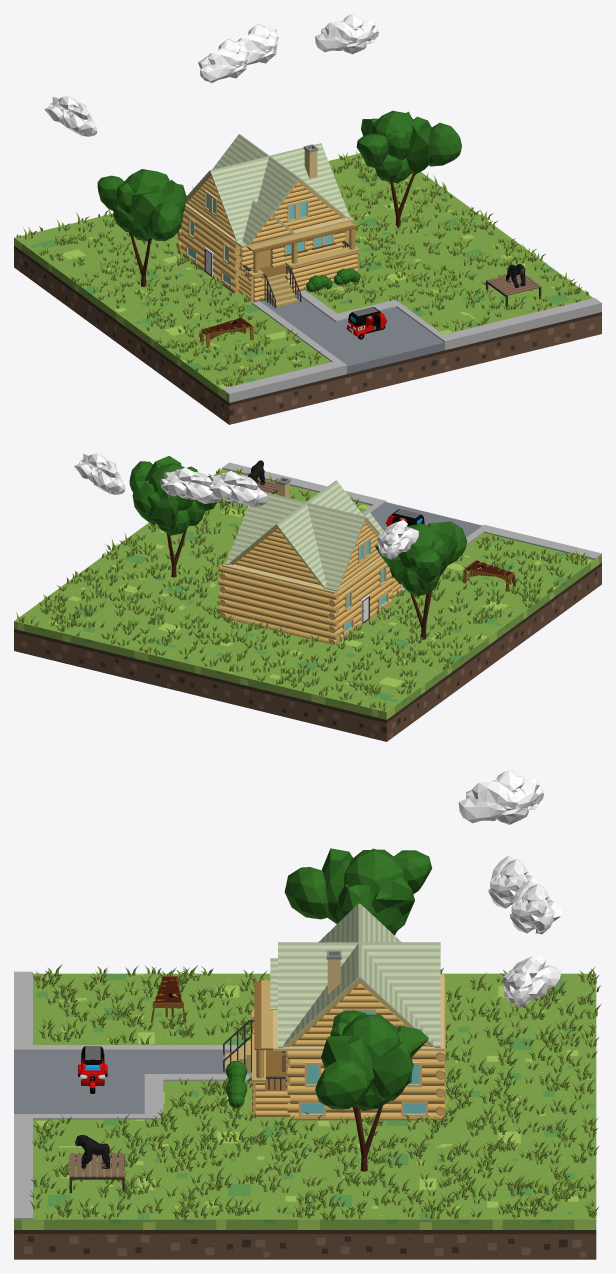
3 renders of one model, top to bottom at view 1: azimuth 30°, elevation 25°; view 2: azimuth 150°, elevation 25°; view 3: azimuth 270°, elevation 25°, orthographic. The views are drawn at different scales.
Parts seen in each view (by area): view 1: Cube.006, Cube.1516, Circle.012_Grass_0.192, Cube.007, tree, tree.001, VEHICLES_TUC_TUC, Cube.009, OBJRANDOM_MARIMBA; view 2: Cube.006, Cube.1516, Circle.012_Grass_0.192, Cube.007, tree.001, tree, OBJRANDOM_MARIMBA, VEHICLES_TUC_TUC; view 3: Cube.006, Circle.012_Grass_0.192, Cube.1516, tree, Cube.007, tree.001, Cube.009, VEHICLES_TUC_TUC, OBJRANDOM_MARIMBA, ANIMAL_GORILA.
Part boxes in pixels (x1,y1,x2,y2): Cube.006: [14, 153, 601, 424]; Cube.1516: [176, 134, 359, 308]; Circle.012_Grass_0.192: [16, 150, 588, 386]; Cube.007: [44, 14, 378, 136]; tree: [356, 110, 461, 228]; tree.001: [97, 169, 186, 286]; VEHICLES_TUC_TUC: [346, 307, 387, 339]; Cube.009: [486, 274, 541, 306]; OBJRANDOM_MARIMBA: [200, 316, 253, 347]; Cube.006: [14, 462, 601, 741]; Cube.1516: [218, 477, 401, 644]; Circle.012_Grass_0.192: [16, 468, 588, 711]; Cube.007: [74, 453, 418, 559]; tree.001: [375, 521, 467, 639]; tree: [129, 456, 216, 577]; OBJRANDOM_MARIMBA: [463, 560, 515, 591]; VEHICLES_TUC_TUC: [385, 509, 424, 526]; Cube.006: [14, 971, 596, 1259]; Circle.012_Grass_0.192: [29, 964, 601, 1220]; Cube.1516: [223, 903, 445, 1120]; tree: [315, 1010, 428, 1171]; Cube.007: [458, 770, 561, 1007]; tree.001: [284, 848, 432, 935]; Cube.009: [69, 1153, 124, 1193]; VEHICLES_TUC_TUC: [78, 1046, 107, 1093]; OBJRANDOM_MARIMBA: [151, 976, 186, 1023]; ANIMAL_GORILA: [75, 1135, 109, 1168].
Bounding box in the file's own units: 4071 × 2277 × 4040.
39 materials, 4 textured.
